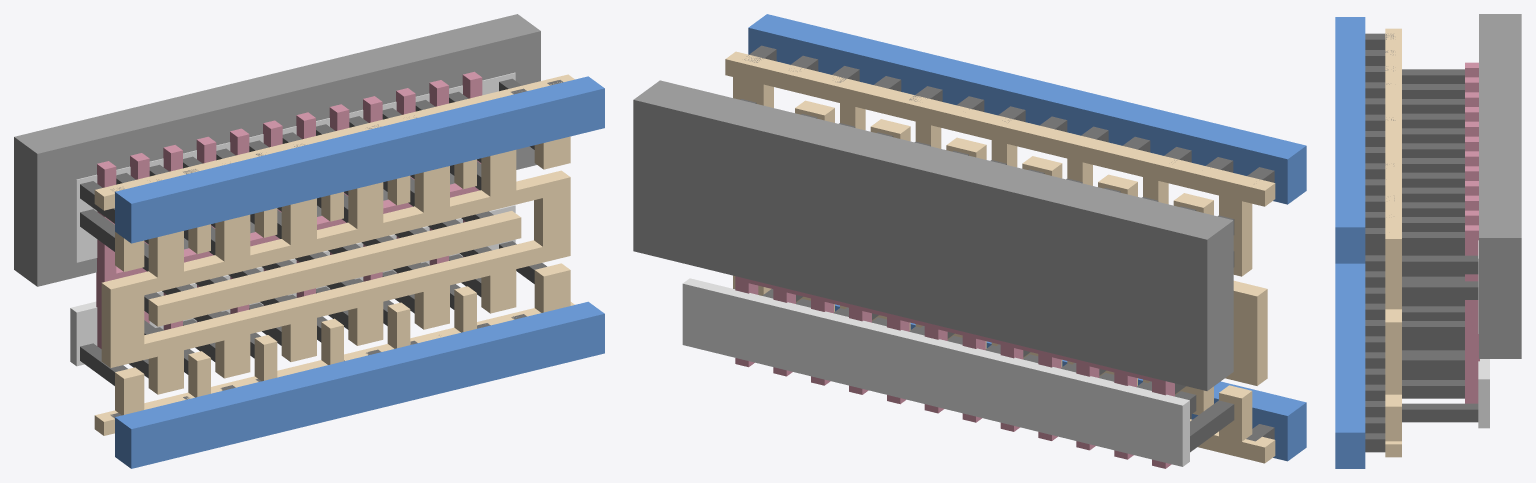
File: sky130_fd_sc_hd__inv_12.gds.gltf
3 renders of one model, left to right at view 1: azimuth 30°, elevation 25°; view 2: azimuth 150°, elevation 25°; view 3: azimuth 270°, elevation 25°, orthographic. The views are drawn at different scales.
Visible parts, largest first — view 1: sky130_fd_sc_hd__inv_12_li1, sky130_fd_sc_hd__inv_12_met1, sky130_fd_sc_hd__inv_12_nwell, sky130_fd_sc_hd__inv_12_licon, sky130_fd_sc_hd__inv_12_poly, sky130_fd_sc_hd__inv_12_diff; view 2: sky130_fd_sc_hd__inv_12_nwell, sky130_fd_sc_hd__inv_12_diff, sky130_fd_sc_hd__inv_12_li1, sky130_fd_sc_hd__inv_12_met1, sky130_fd_sc_hd__inv_12_poly, sky130_fd_sc_hd__inv_12_mcon, sky130_fd_sc_hd__inv_12_licon; view 3: sky130_fd_sc_hd__inv_12_licon, sky130_fd_sc_hd__inv_12_nwell, sky130_fd_sc_hd__inv_12_met1, sky130_fd_sc_hd__inv_12_mcon, sky130_fd_sc_hd__inv_12_li1, sky130_fd_sc_hd__inv_12_poly, sky130_fd_sc_hd__inv_12_diff.
Part boxes in pixels (left/top/right/bottom): sky130_fd_sc_hd__inv_12_li1: left=94, top=74, right=574, bottom=435; sky130_fd_sc_hd__inv_12_met1: left=115, top=76, right=604, bottom=468; sky130_fd_sc_hd__inv_12_nwell: left=14, top=14, right=540, bottom=286; sky130_fd_sc_hd__inv_12_licon: left=80, top=78, right=546, bottom=385; sky130_fd_sc_hd__inv_12_poly: left=96, top=71, right=482, bottom=348; sky130_fd_sc_hd__inv_12_diff: left=70, top=72, right=515, bottom=366; sky130_fd_sc_hd__inv_12_nwell: left=633, top=80, right=1233, bottom=390; sky130_fd_sc_hd__inv_12_diff: left=682, top=278, right=1189, bottom=466; sky130_fd_sc_hd__inv_12_li1: left=725, top=51, right=1275, bottom=463; sky130_fd_sc_hd__inv_12_met1: left=748, top=14, right=1306, bottom=461; sky130_fd_sc_hd__inv_12_poly: left=735, top=276, right=1174, bottom=468; sky130_fd_sc_hd__inv_12_mcon: left=744, top=45, right=1274, bottom=441; sky130_fd_sc_hd__inv_12_licon: left=734, top=99, right=1234, bottom=452; sky130_fd_sc_hd__inv_12_licon: left=1402, top=69, right=1478, bottom=422; sky130_fd_sc_hd__inv_12_nwell: left=1479, top=14, right=1521, bottom=358; sky130_fd_sc_hd__inv_12_met1: left=1335, top=17, right=1365, bottom=468; sky130_fd_sc_hd__inv_12_mcon: left=1365, top=33, right=1395, bottom=452; sky130_fd_sc_hd__inv_12_li1: left=1385, top=28, right=1401, bottom=457; sky130_fd_sc_hd__inv_12_poly: left=1465, top=62, right=1479, bottom=403; sky130_fd_sc_hd__inv_12_diff: left=1478, top=240, right=1489, bottom=428.
Bounding box in the file's own units: 6.36 × 3.2 × 2.24.
